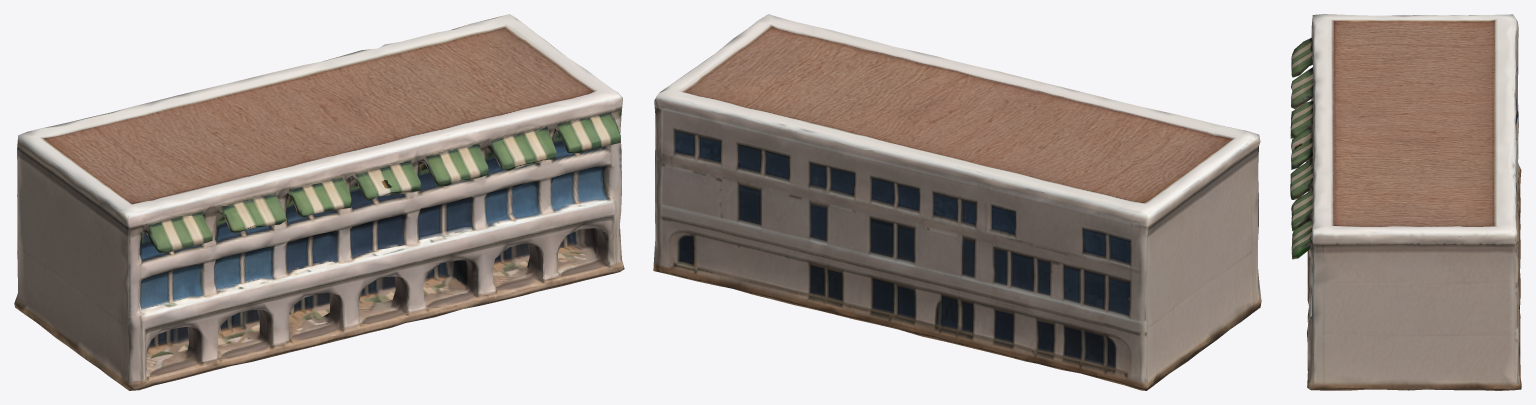
File: 남산_로비건물.glb
3 renders of one model, left to right at view 1: azimuth 30°, elevation 25°; view 2: azimuth 150°, elevation 25°; view 3: azimuth 270°, elevation 25°, orthographic. The views are drawn at different scales.
Parts seen in each view (by area): view 1: texture_mapping; view 2: texture_mapping; view 3: texture_mapping.
Boxes of the visible parts, x1,y1,x2,y2 form: texture_mapping: [14, 14, 624, 390]; texture_mapping: [653, 14, 1261, 390]; texture_mapping: [1290, 14, 1521, 390].
Bounding box in the file's own units: 0.9998 × 0.3399 × 0.4443.
1 material, 1 textured.
